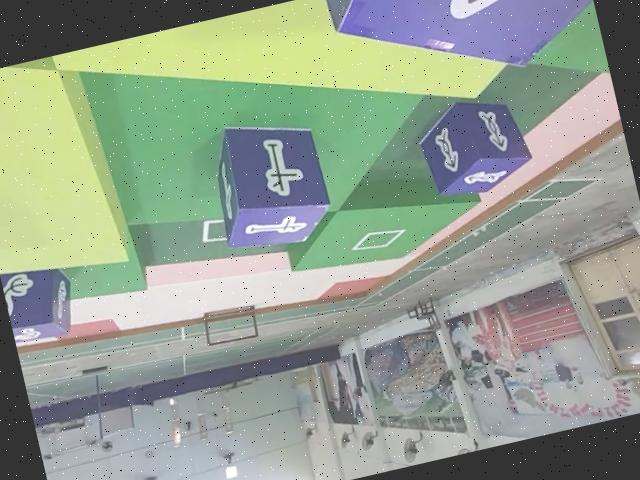R2 Real Blue: (200, 104, 336, 254), (411, 88, 538, 205), (0, 252, 84, 346)
